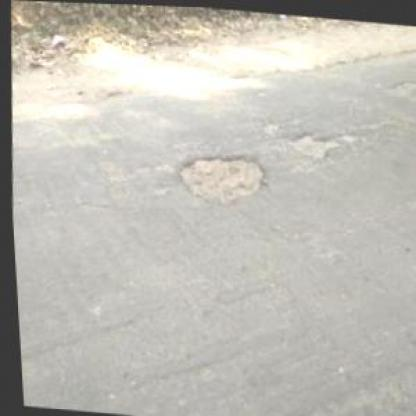pothole: (171, 146, 266, 206), (282, 126, 342, 160)
